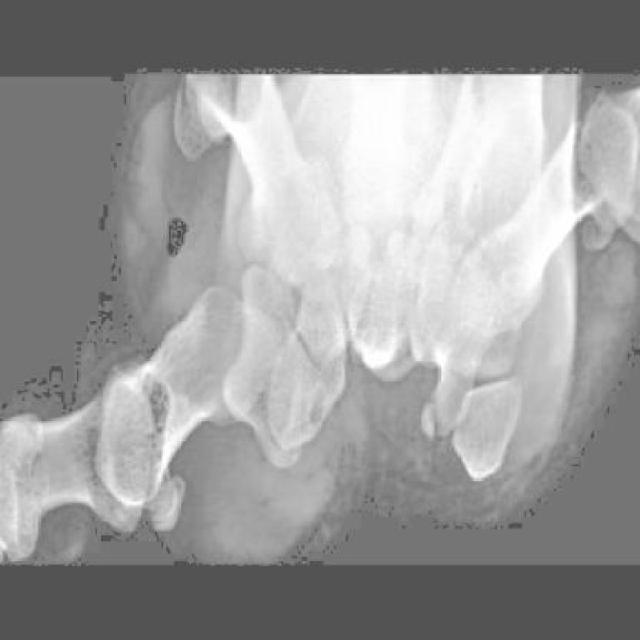Fracture: (414, 400, 451, 448)
